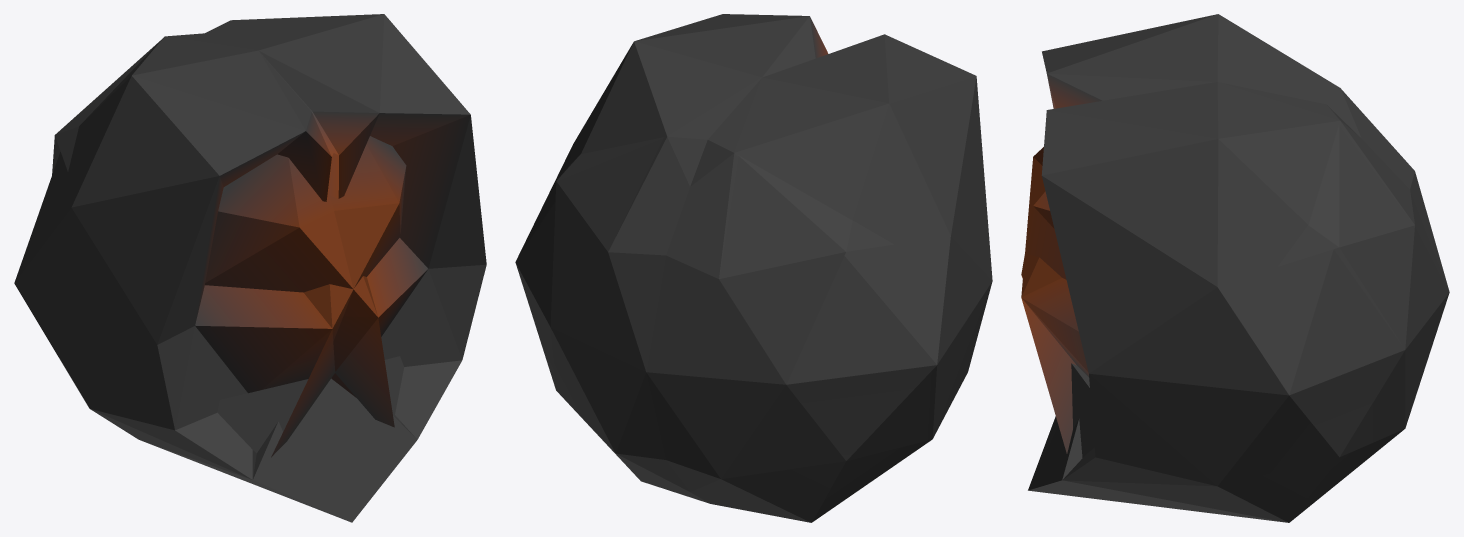
The model's file is Captain.fbx.
3 views of the same model, side by side, from view 1: azimuth 30°, elevation 25°; view 2: azimuth 150°, elevation 25°; view 3: azimuth 270°, elevation 25° (orthographic).
Parts seen in each view (by area): view 1: Head; view 2: Head; view 3: Head.
Part boxes in pixels (left/top/right/bottom): Head: left=14, top=14, right=486, bottom=522; Head: left=515, top=14, right=992, bottom=522; Head: left=1021, top=14, right=1449, bottom=522.
Bounding box in the file's own units: 210 × 197 × 185.
